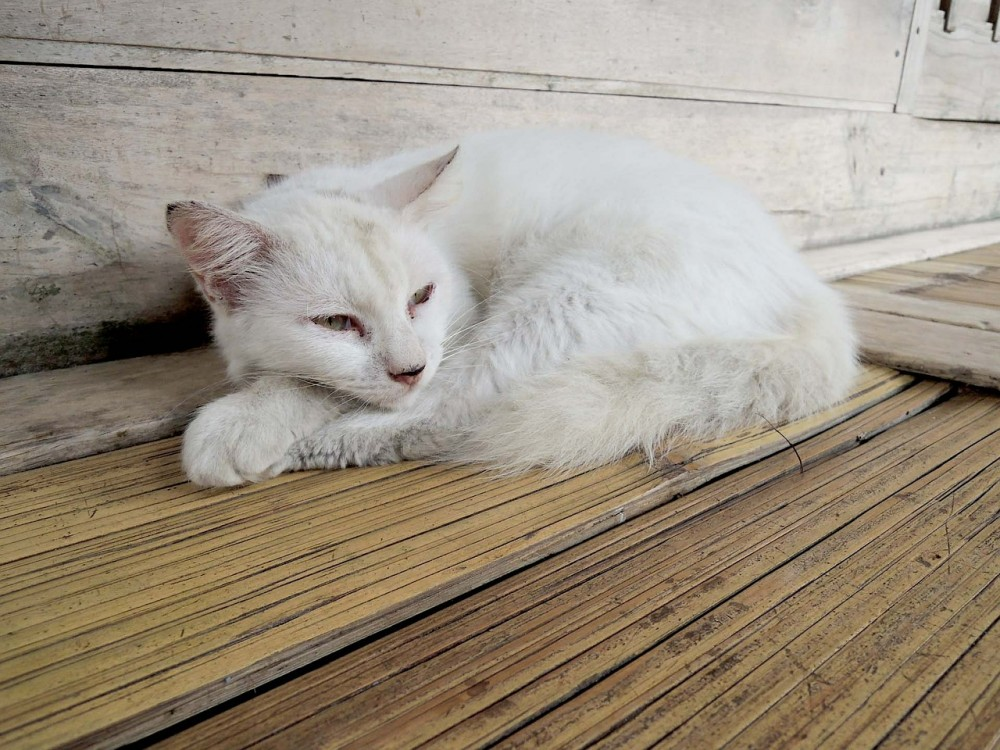cat: (96, 117, 885, 495)
